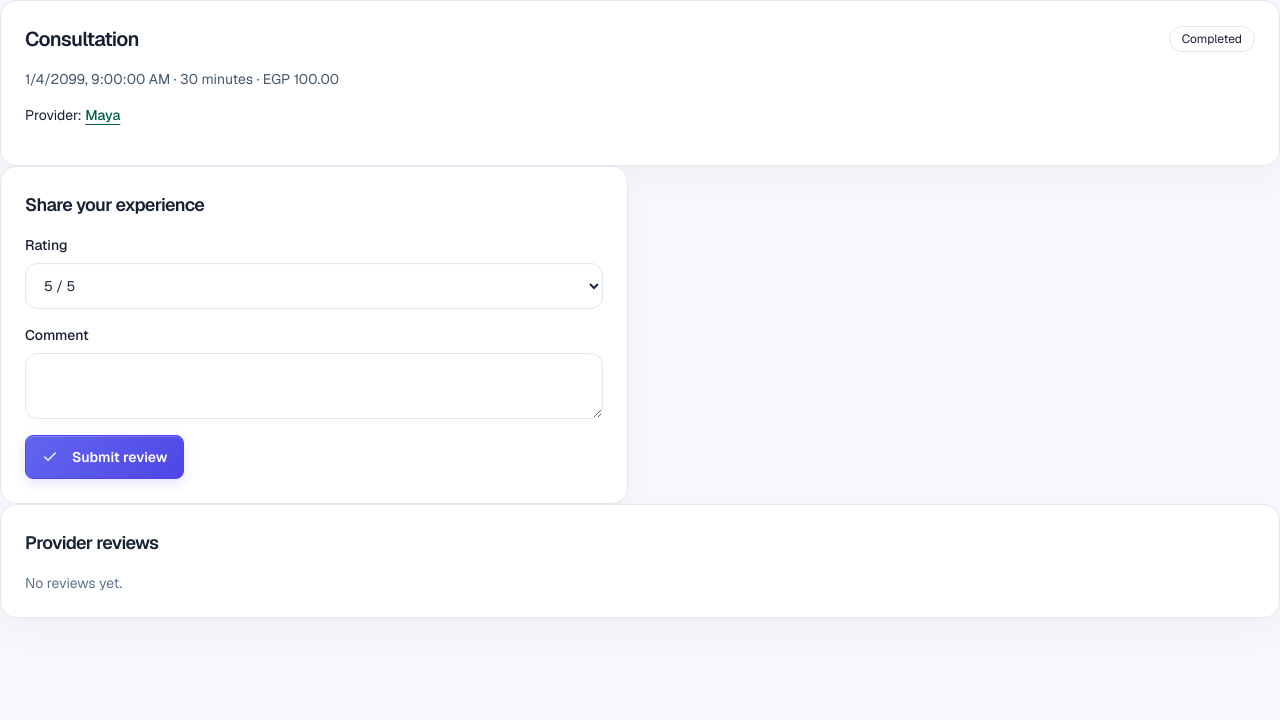
it: new endpoint-backed screens › offers a review only after completion
Type "Great service" into the text box labelled "Comment" at coordinates (314, 386), box 25,353 -> 603,419
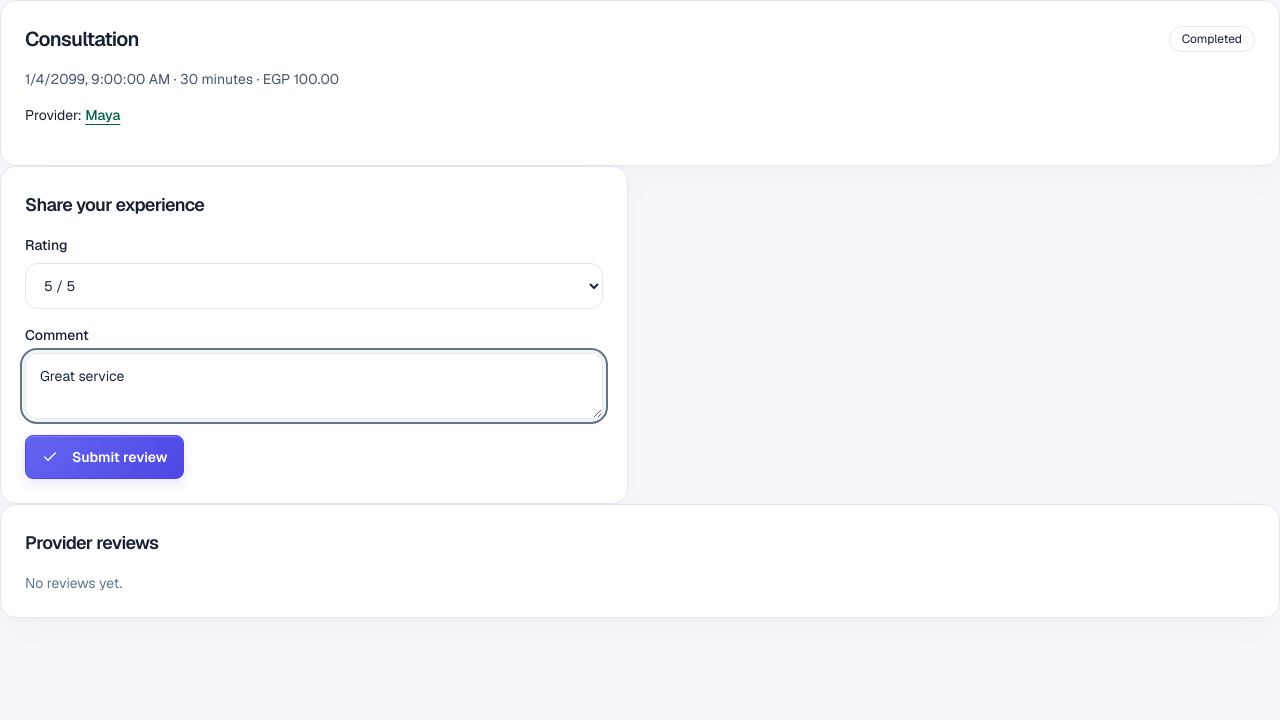
Click the button "Submit review" at coordinates (105, 457), box 25,435 -> 184,479
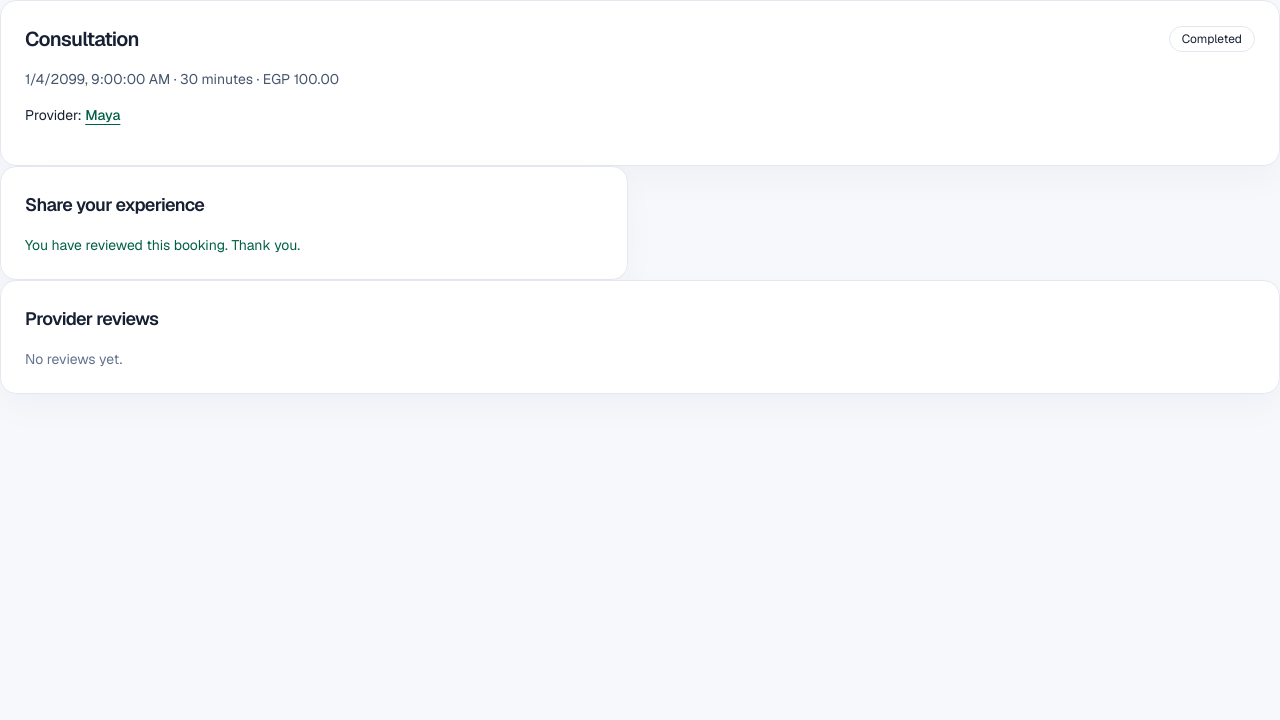
Now the text "You have reviewed this booking. Thank you." is shown, box 25,236 -> 300,254
